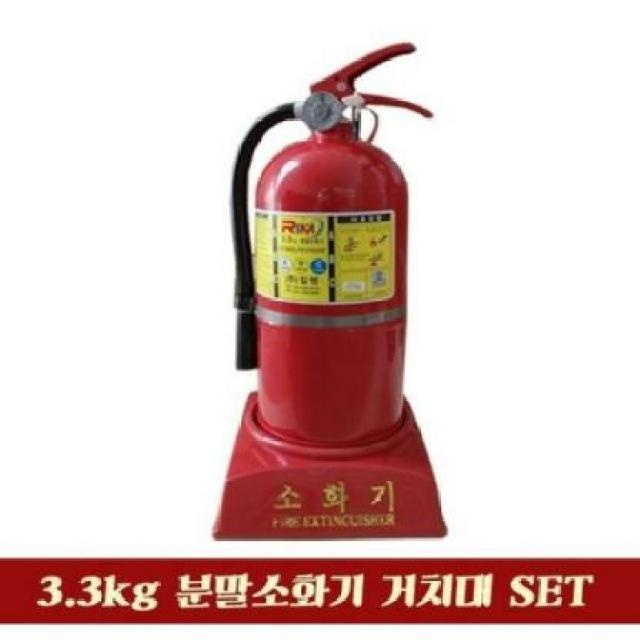fire extinguisher: (229, 41, 435, 445)
